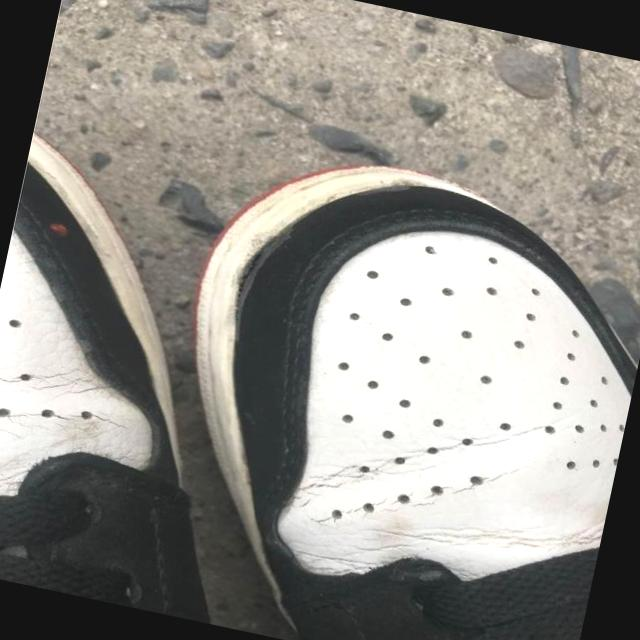nike_original_jordan: (129, 129, 640, 640)
